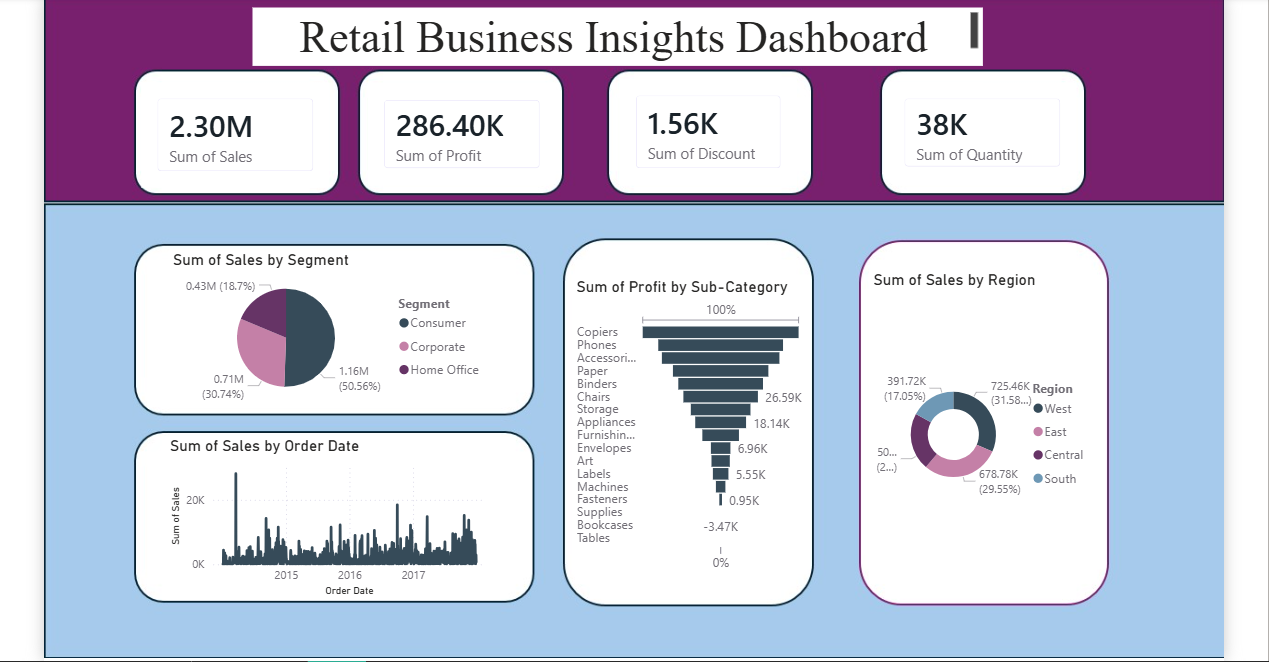

Layout of this report page (visuals, bound fields, positions):
{"tool":"powerbi","page":{"name":"Page 2","canvas":[1280,720],"ordinal":0},"visuals":[{"type":"cardVisual","fields":{"Data":["Sum(in.Sales)"]},"box":[105.7,92.7,203.3,113.9],"z":0},{"type":"cardVisual","fields":{"Data":["Sum(in.Discount)"]},"box":[624.6,89.5,191.9,113.9],"z":1000},{"type":"cardVisual","fields":{"Data":["Sum(in.Profit)"]},"box":[351.3,94.3,203.3,109],"z":2000},{"type":"cardVisual","fields":{"Data":["Sum(in.Quantity)"]},"box":[915.7,92.7,203.3,109],"z":3000},{"type":"pieChart","fields":{"Category":["in.Segment"],"Y":["Sum(in.Sales)"]},"box":[135,274.9,351.3,169.2],"z":4000},{"type":"funnel","fields":{"Category":["in.Sub-Category"],"Y":["Sum(in.Profit)"]},"box":[572.5,304.2,255.4,322.1],"z":5000},{"type":"lineChart","fields":{"Category":["in.Order Date"],"Y":["Sum(in.Sales)"]},"box":[131.8,476.6,354.6,177.3],"z":6000},{"type":"donutChart","fields":{"Category":["in.Region"],"Y":["Sum(in.Sales)"]},"box":[894.6,296,247.2,336.7],"z":7000},{"type":"textbox","box":[225.6,10.6,791.9,63.6],"z":8000}]}

Visuals, with their boxes on the page's 1280x720 design canvas (x1, y1, x2, y2). These are canvas units, not pixel positions in the 1269x662 screenshot, which may show the page scaled, cropped or inside an application window:
cardVisual - Sum(in.Sales): Rect(106, 93, 309, 207)
cardVisual - Sum(in.Discount): Rect(625, 90, 816, 203)
cardVisual - Sum(in.Profit): Rect(351, 94, 555, 203)
cardVisual - Sum(in.Quantity): Rect(916, 93, 1119, 202)
pieChart - in.Segment x Sum(in.Sales): Rect(135, 275, 486, 444)
funnel - in.Sub-Category x Sum(in.Profit): Rect(572, 304, 828, 626)
lineChart - in.Order Date x Sum(in.Sales): Rect(132, 477, 486, 654)
donutChart - in.Region x Sum(in.Sales): Rect(895, 296, 1142, 633)
textbox: Rect(226, 11, 1018, 74)
